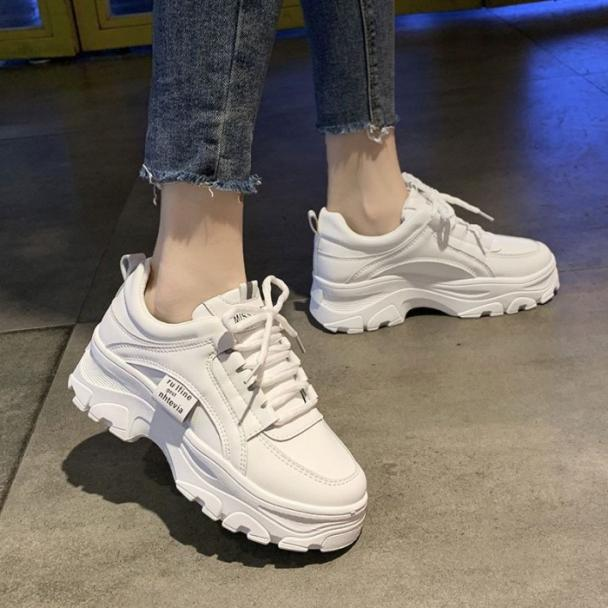Sepatu: (71, 255, 368, 554), (304, 182, 569, 323)
